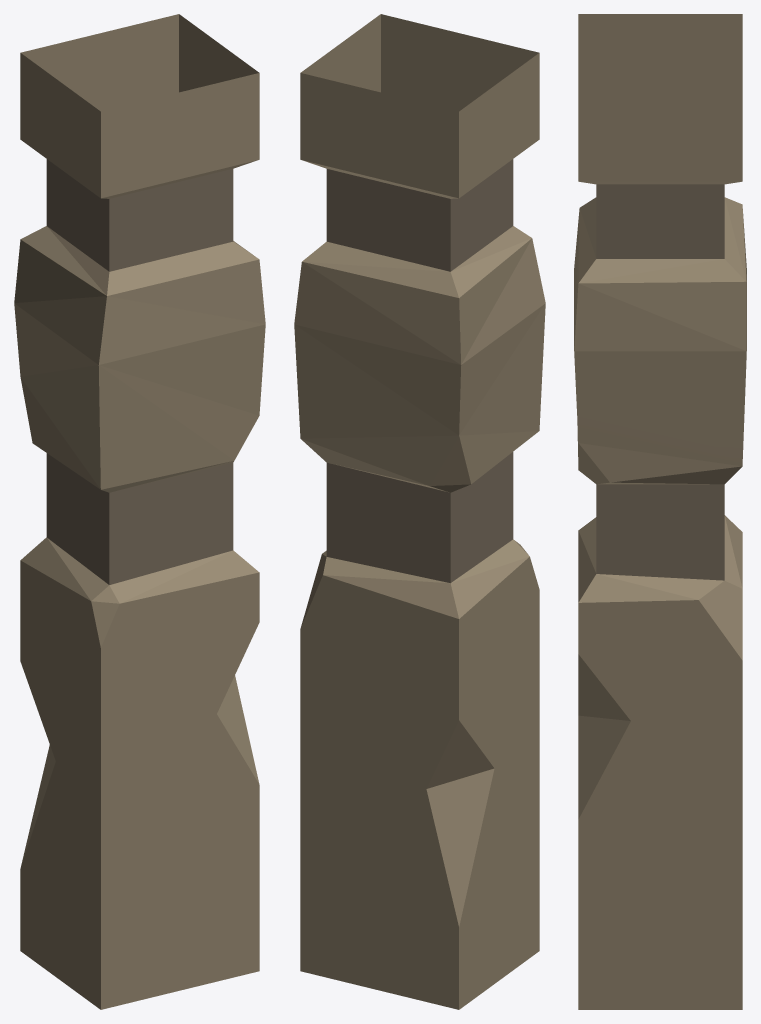
The model's file is SM_Bld_House_Chimney_02.glb.
3 views of the same model, side by side, from view 1: azimuth 30°, elevation 25°; view 2: azimuth 150°, elevation 25°; view 3: azimuth 270°, elevation 25° (orthographic). The views are drawn at different scales.
Parts seen in each view (by area): view 1: SM_Bld_House_Chimney_02; view 2: SM_Bld_House_Chimney_02; view 3: SM_Bld_House_Chimney_02.
Part boxes in pixels (x1,y1,x2,y2): SM_Bld_House_Chimney_02: (14,14,265,1009); SM_Bld_House_Chimney_02: (294,14,545,1009); SM_Bld_House_Chimney_02: (574,14,746,1009).
Size of the model in its own units: 0.8954 by 4.6 by 0.7858.
1 material, 1 textured.
